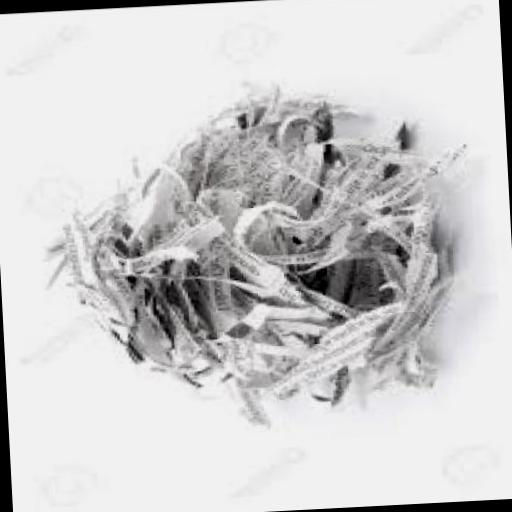paper: (31, 66, 480, 434)
